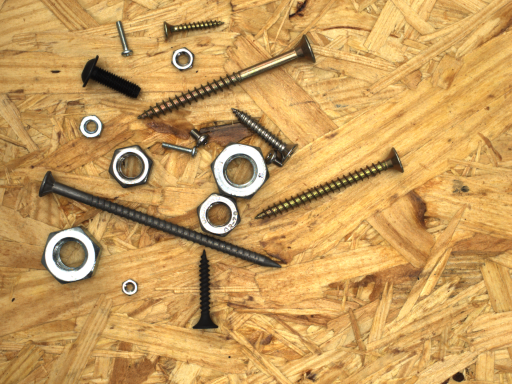screw_long: (25, 158, 301, 293)
